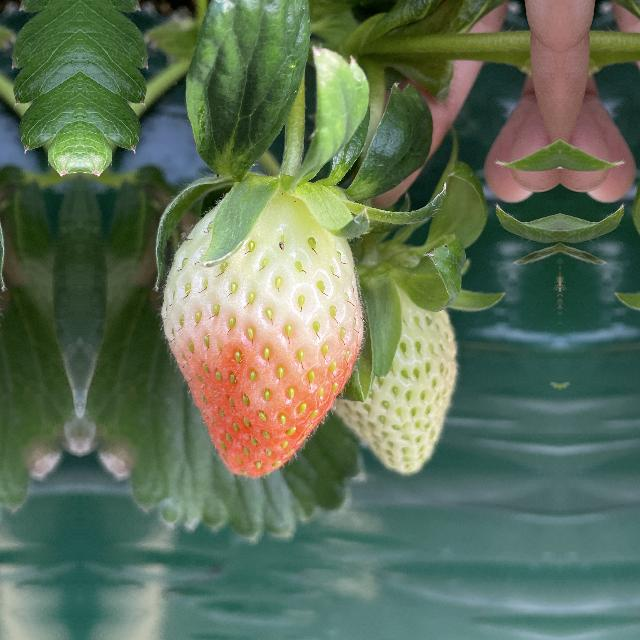Health_25: (331, 255, 462, 470)
Health_75: (161, 172, 371, 486)
